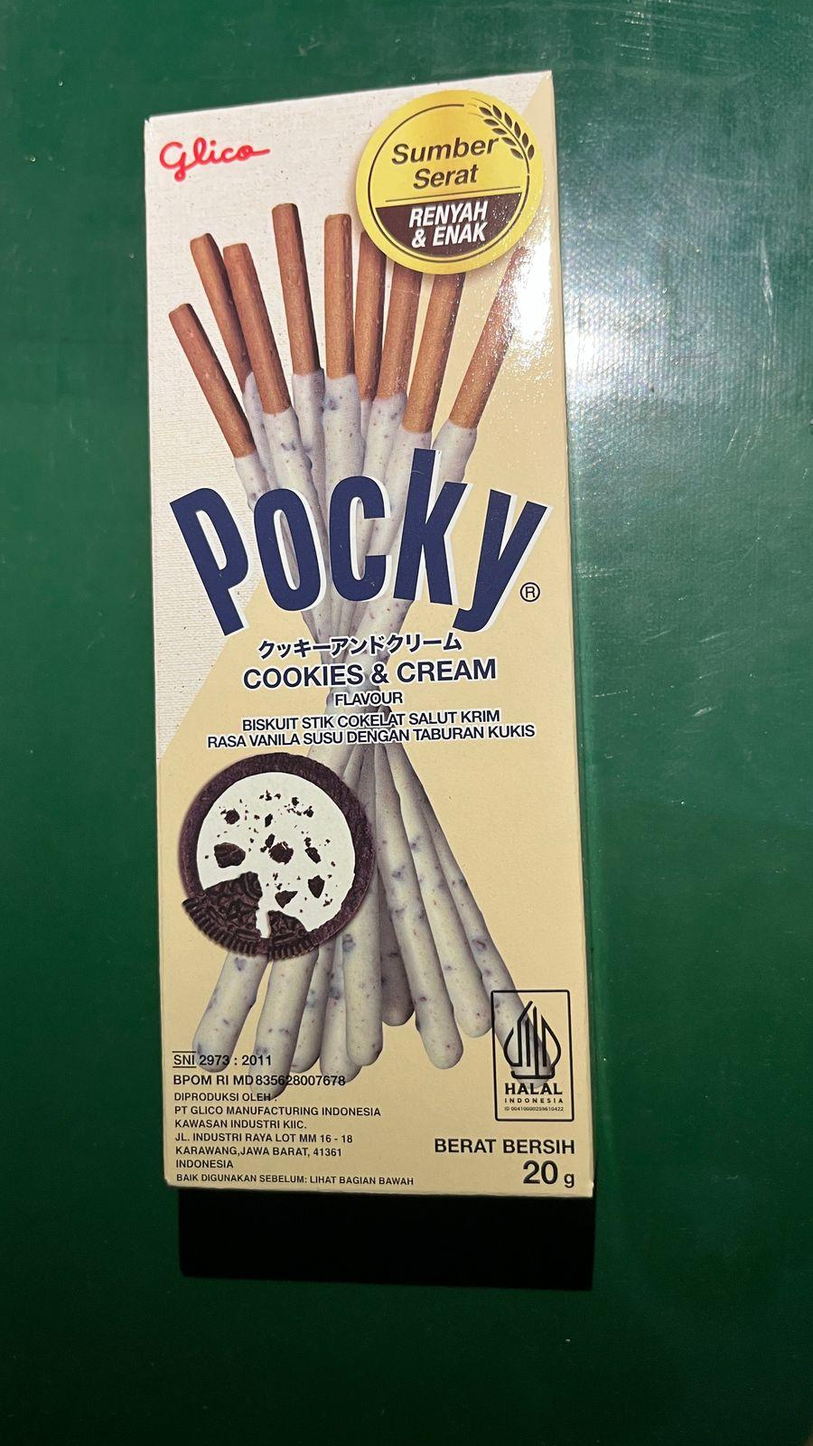Kertas: (136, 84, 599, 1229)
